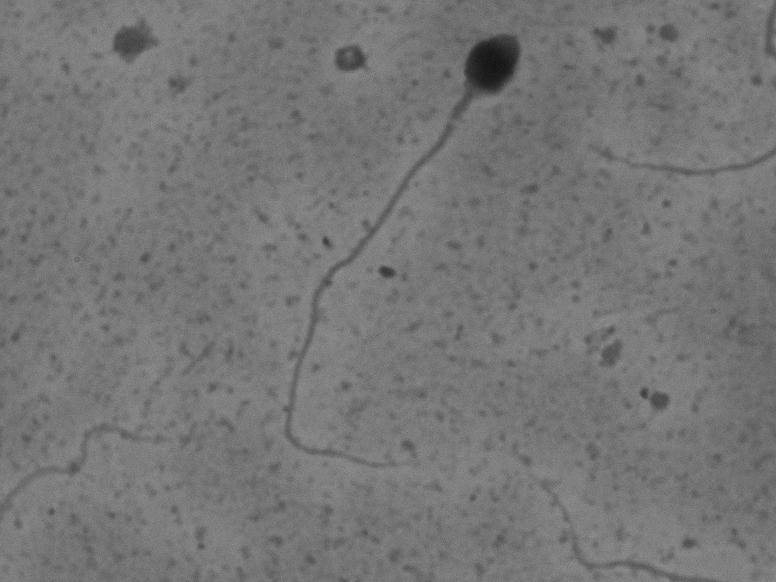Abnormal: (272, 15, 533, 481)
